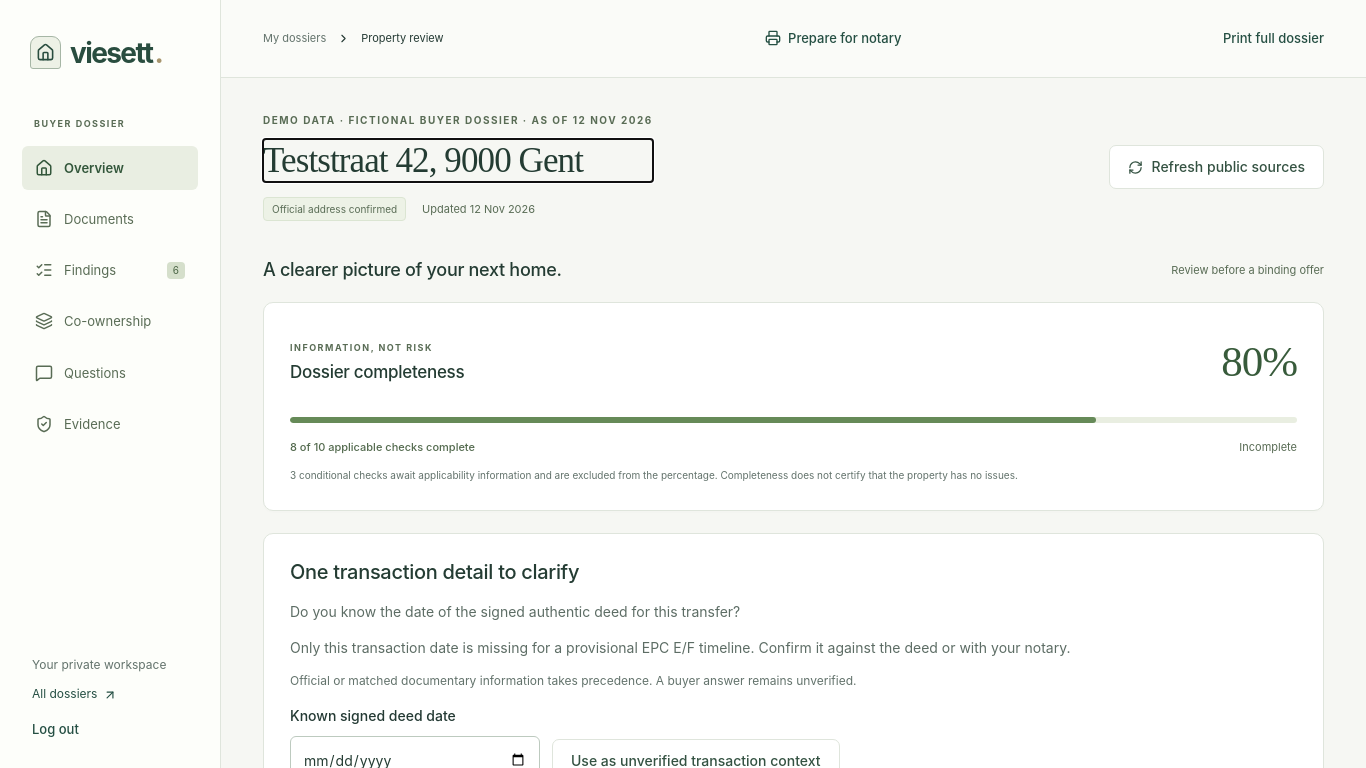
logs out on the server before removing private content
Check: the heading "Dossier completeness" is shown, box x1=290 y1=362 x2=464 y2=383
Click the button "Log out": [110, 729] box x1=32 y1=715 x2=188 y2=743
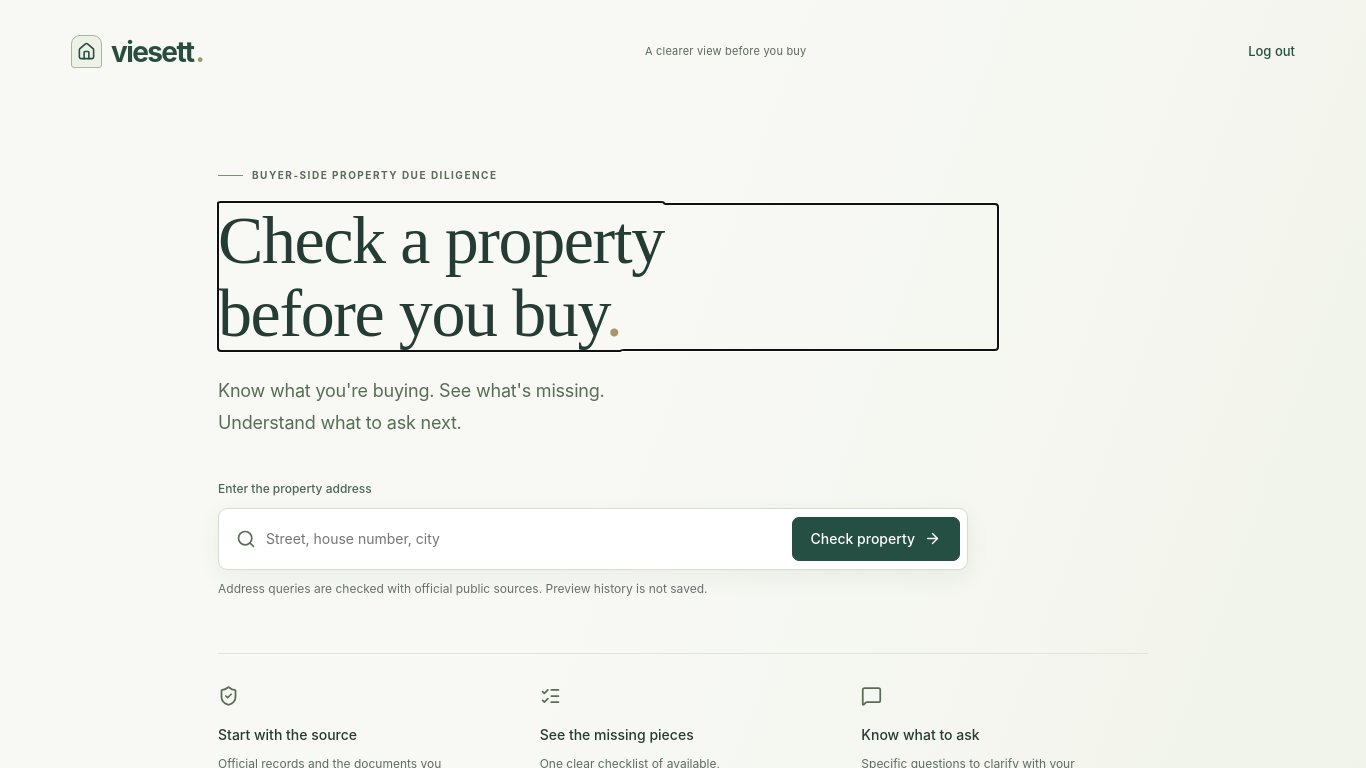
Check: the button "Check property" is shown, box x1=792 y1=517 x2=960 y2=561
Check: the heading "Dossier completeness" is gone
